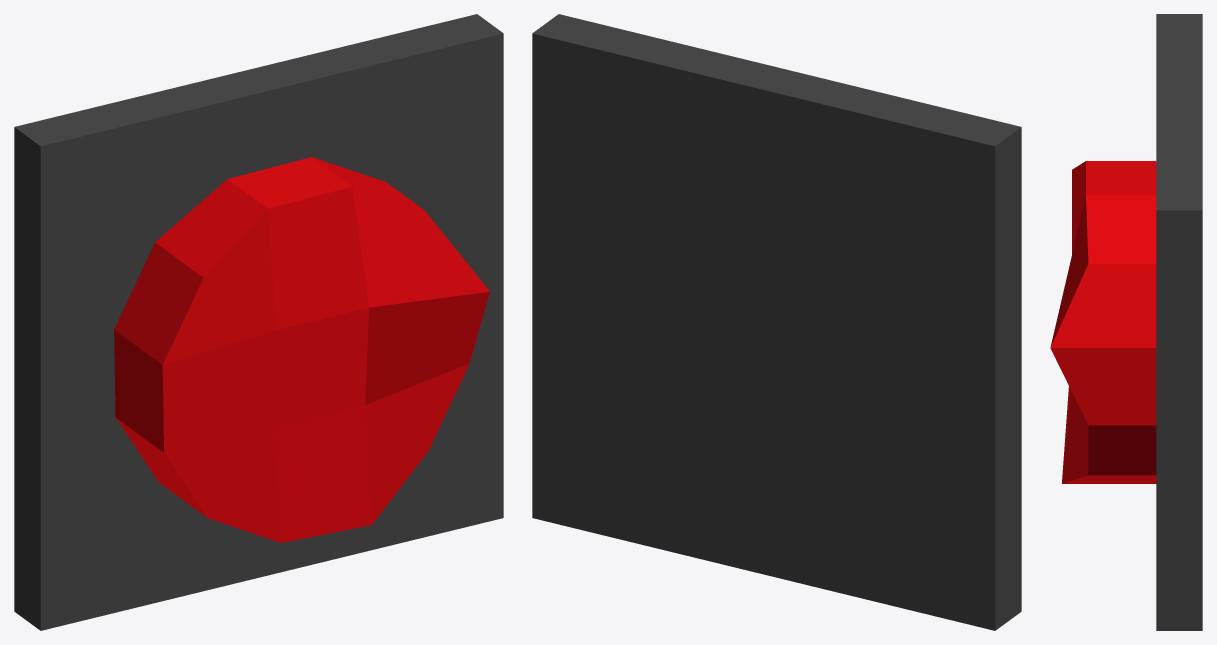
Rendered from Button.fbx.
The picture shows the model from 3 angles, left to right: view 1: azimuth 30°, elevation 25°; view 2: azimuth 150°, elevation 25°; view 3: azimuth 270°, elevation 25°; orthographic projection. The views are drawn at different scales.
Parts seen in each view (by area): view 1: Cube; view 2: Cube; view 3: Cube.
Boxes of the visible parts, x1,y1,x2,y2 form: Cube: [14, 14, 503, 630]; Cube: [532, 14, 1021, 630]; Cube: [1050, 14, 1202, 630].
Bounding box in the file's own units: 200 × 200 × 65.57.
